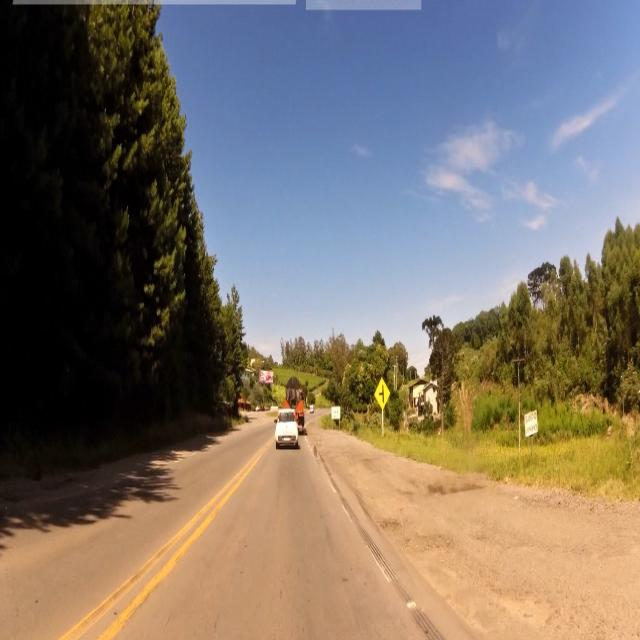A-7a: (374, 377, 392, 412)
